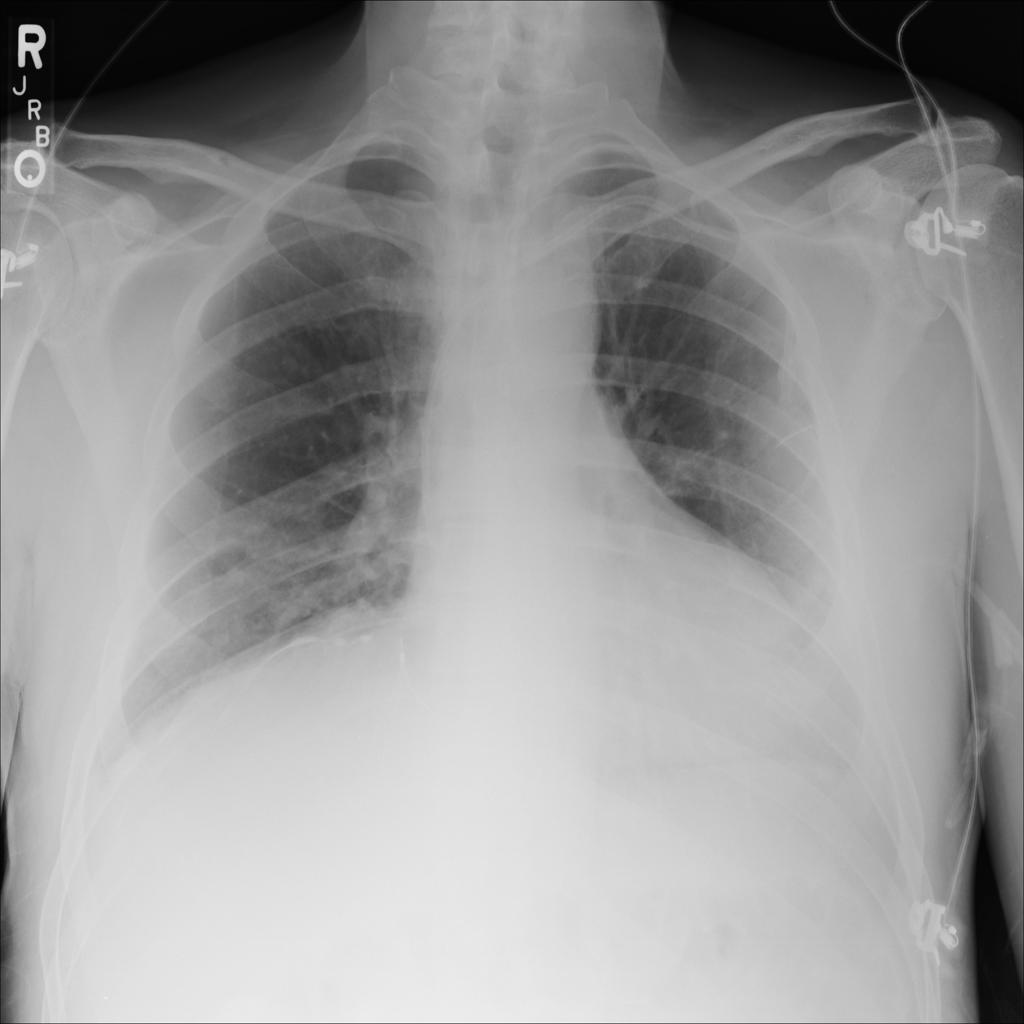nodule: (266, 335, 317, 387)
